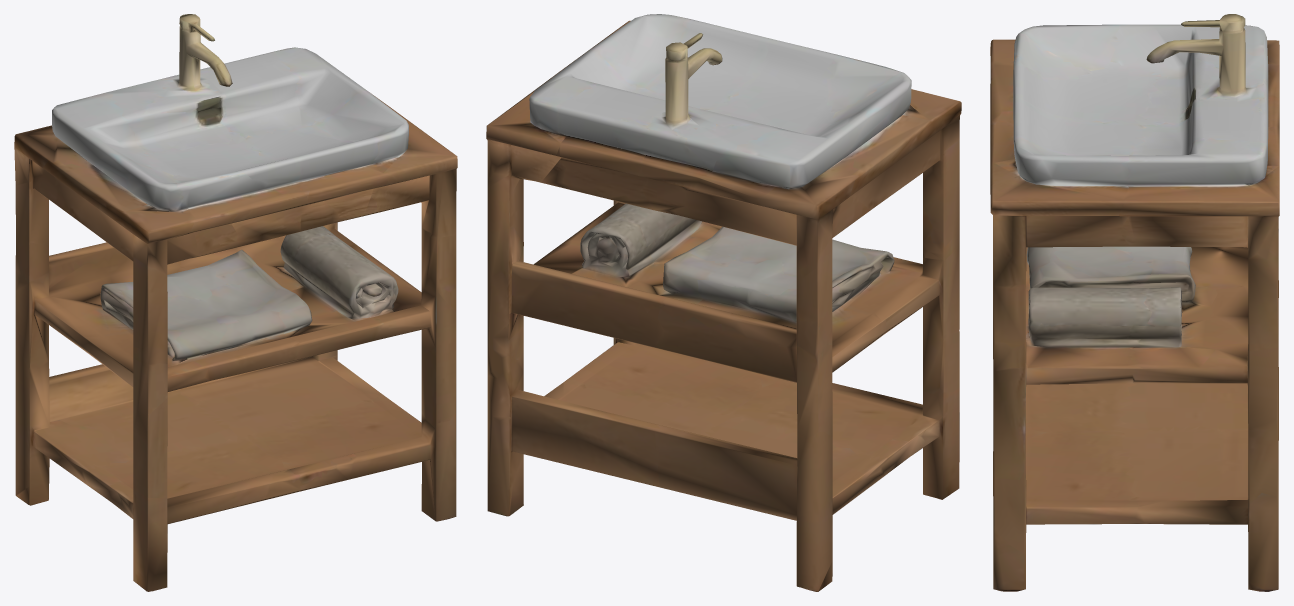
File: basin.26b934df.glb
3 views of the same model, side by side, from view 1: azimuth 30°, elevation 25°; view 2: azimuth 150°, elevation 25°; view 3: azimuth 270°, elevation 25° (orthographic). The views are drawn at different scales.
Visible parts, largest first — view 1: tripo_node_c4dc0e20-c1e4-458e-b4be-ca10821a4967; view 2: tripo_node_c4dc0e20-c1e4-458e-b4be-ca10821a4967; view 3: tripo_node_c4dc0e20-c1e4-458e-b4be-ca10821a4967.
Boxes of the visible parts, x1,y1,x2,y2 form: tripo_node_c4dc0e20-c1e4-458e-b4be-ca10821a4967: (14,14,457,591); tripo_node_c4dc0e20-c1e4-458e-b4be-ca10821a4967: (486,14,961,591); tripo_node_c4dc0e20-c1e4-458e-b4be-ca10821a4967: (990,14,1279,591).
Bounding box in the file's own units: 0.5995 × 0.8495 × 0.4499.
1 material, 1 textured.
